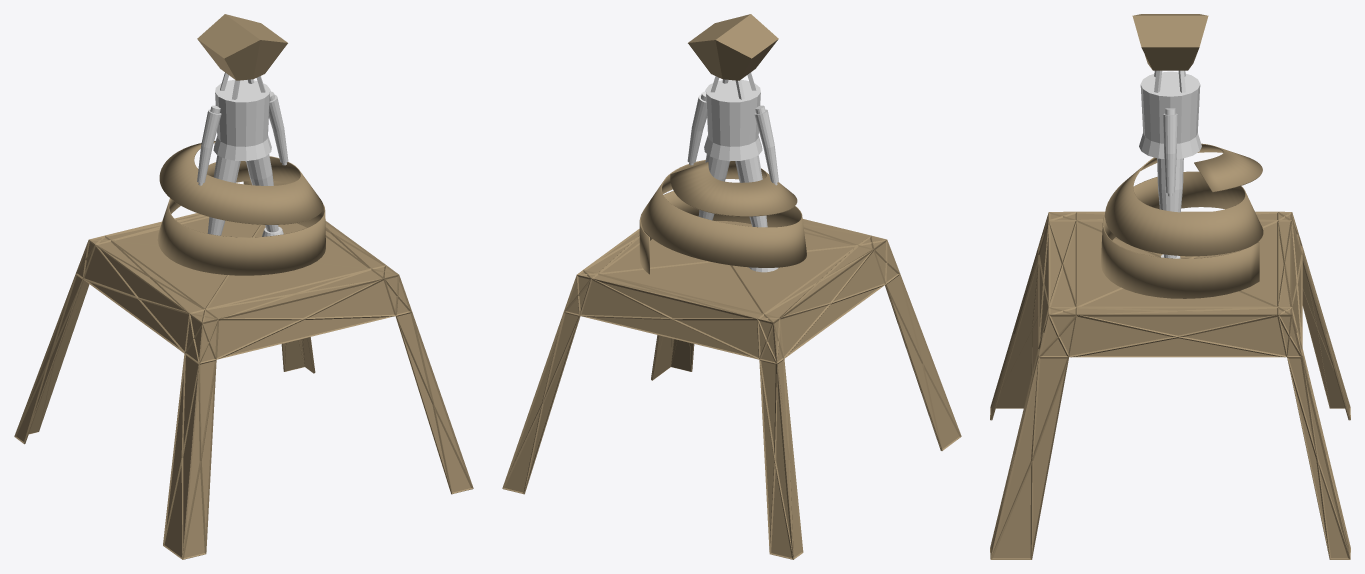
Rendered from heykel 2.fbx.
3 renders of one model, left to right at view 1: azimuth 30°, elevation 25°; view 2: azimuth 150°, elevation 25°; view 3: azimuth 270°, elevation 25°, orthographic. The views are drawn at different scales.
Visible parts, largest first — view 1: NurbsPath; view 2: NurbsPath; view 3: NurbsPath.
Boxes of the visible parts, <box> form: NurbsPath: <box>14,14,473,559</box>; NurbsPath: <box>502,14,961,559</box>; NurbsPath: <box>990,14,1350,559</box>.
Bounding box in the file's own units: 364 × 520 × 364.
